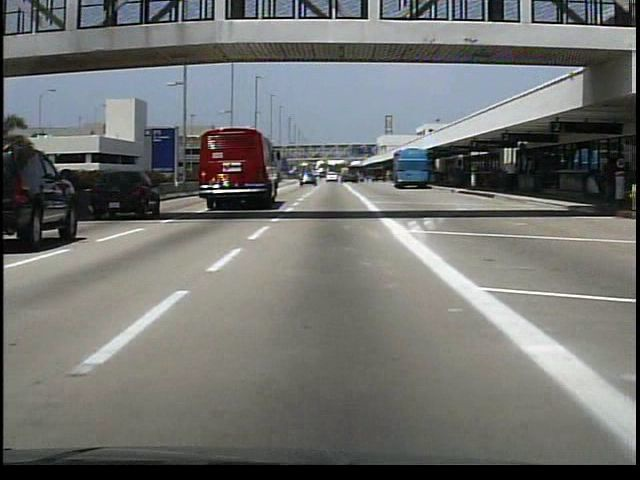person: (509, 160, 522, 192)
